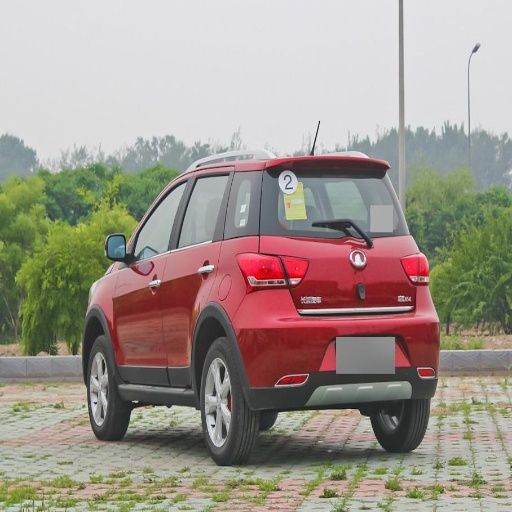back_bumper: (237, 291, 438, 409)
back_glass: (281, 174, 402, 236)
back_left_door: (164, 171, 227, 384)
trunk: (273, 239, 414, 329)
